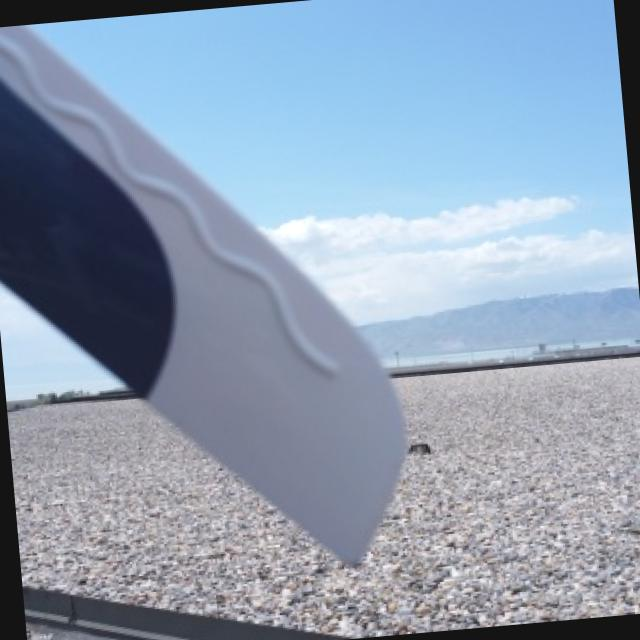healthy: (0, 25, 402, 560)
